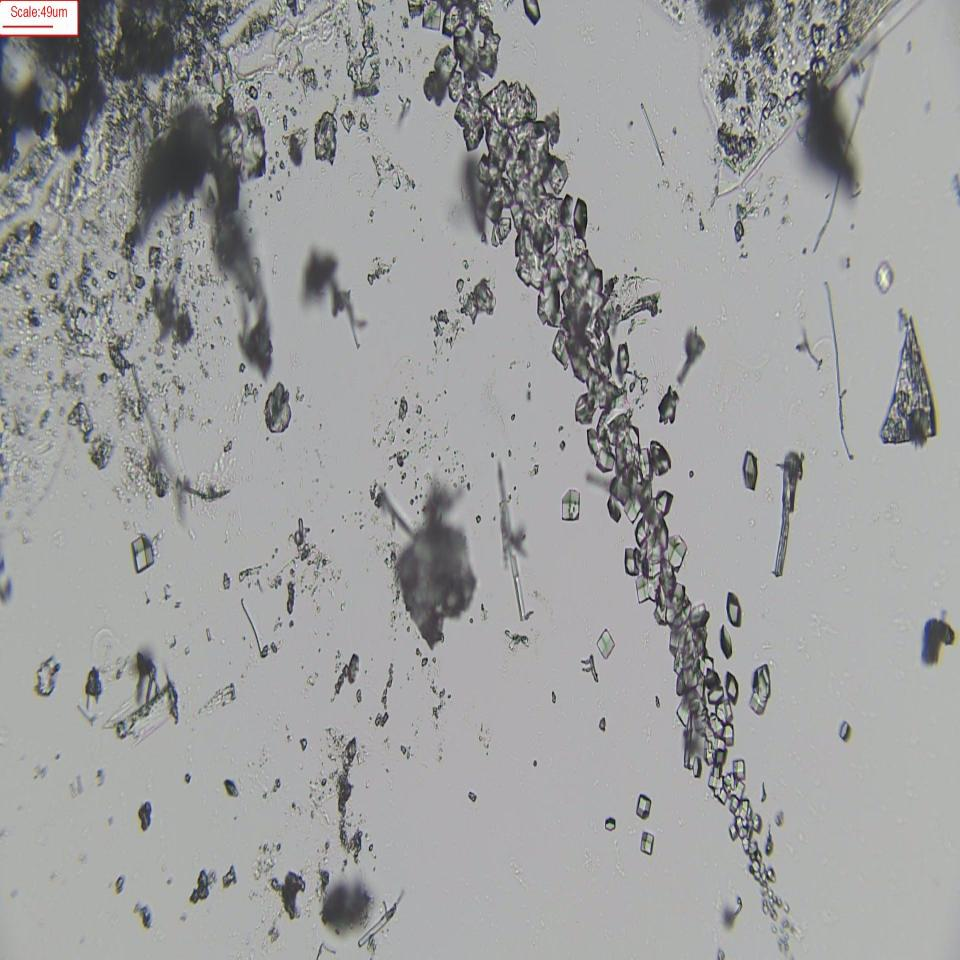crystal: (264, 376, 297, 442), (310, 112, 339, 166), (751, 664, 769, 716), (132, 534, 154, 572), (522, 0, 546, 30), (573, 196, 588, 241), (725, 591, 742, 629), (561, 488, 579, 523), (875, 261, 894, 293), (744, 451, 758, 492), (596, 628, 615, 658), (600, 812, 617, 838), (725, 672, 739, 702), (691, 752, 705, 782), (636, 794, 652, 818), (720, 626, 732, 657), (640, 830, 654, 855), (839, 718, 851, 741), (733, 760, 745, 778)
not_crystal: (457, 82, 519, 137), (538, 261, 588, 324), (590, 419, 614, 472), (660, 529, 688, 568), (613, 479, 641, 517), (712, 709, 732, 749), (637, 573, 661, 602), (731, 798, 752, 821)
